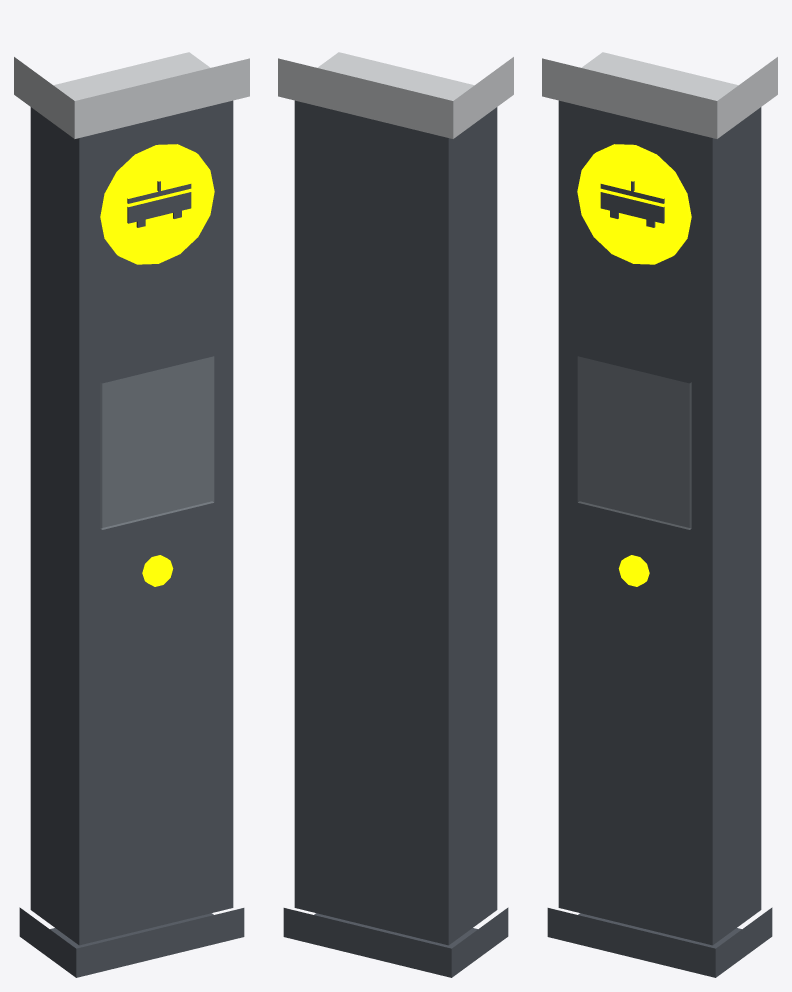
File: ext_stop_totem_05.glb
The picture shows the model from 3 angles, left to right: view 1: azimuth 30°, elevation 25°; view 2: azimuth 150°, elevation 25°; view 3: azimuth 330°, elevation 25°; orthographic projection.
Visible parts, largest first — view 1: Body, Screen, Cap, Roundel, Plinth, Tram_Glyph, Call_Button; view 2: Body, Cap, Plinth; view 3: Body, Screen, Cap, Roundel, Plinth, Tram_Glyph, Call_Button.
Boxes of the visible parts, x1,y1,x2,y2 form: Body: (30,100,233,945); Screen: (100,356,213,529); Cap: (14,52,249,138); Roundel: (100,144,214,264); Plinth: (19,907,244,977); Tram_Glyph: (127,181,191,227); Call_Button: (142,555,173,586); Body: (294,100,497,945); Cap: (278,52,513,138); Plinth: (283,907,508,977); Body: (558,100,761,945); Screen: (578,356,691,529); Cap: (542,52,777,138); Roundel: (577,144,691,264); Plinth: (547,907,772,977); Tram_Glyph: (600,181,664,227); Call_Button: (618,555,649,586).
Size of the model in its own units: 0.5 by 2.4 by 0.3.
